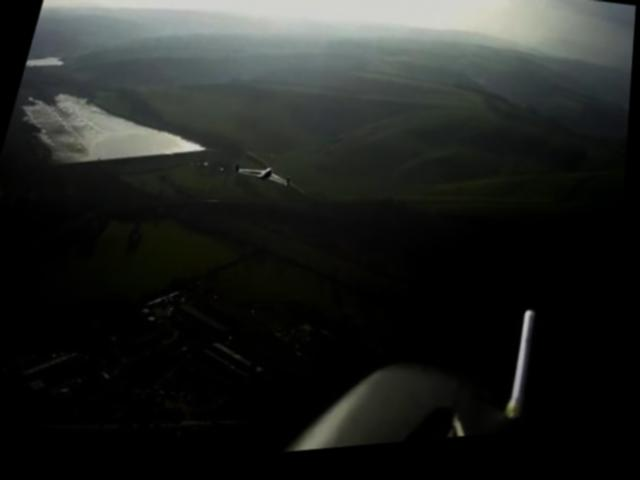iha: (238, 165, 294, 194)
